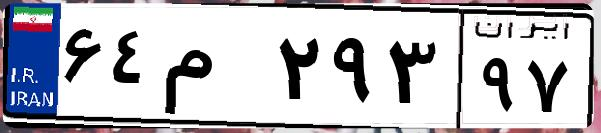2: (270, 28, 330, 110)
3: (385, 28, 445, 110)
4: (110, 28, 158, 98)
6: (57, 26, 110, 100)
7: (525, 38, 570, 115)
9: (330, 28, 385, 110), (475, 38, 525, 113)
م: (158, 20, 270, 120)
